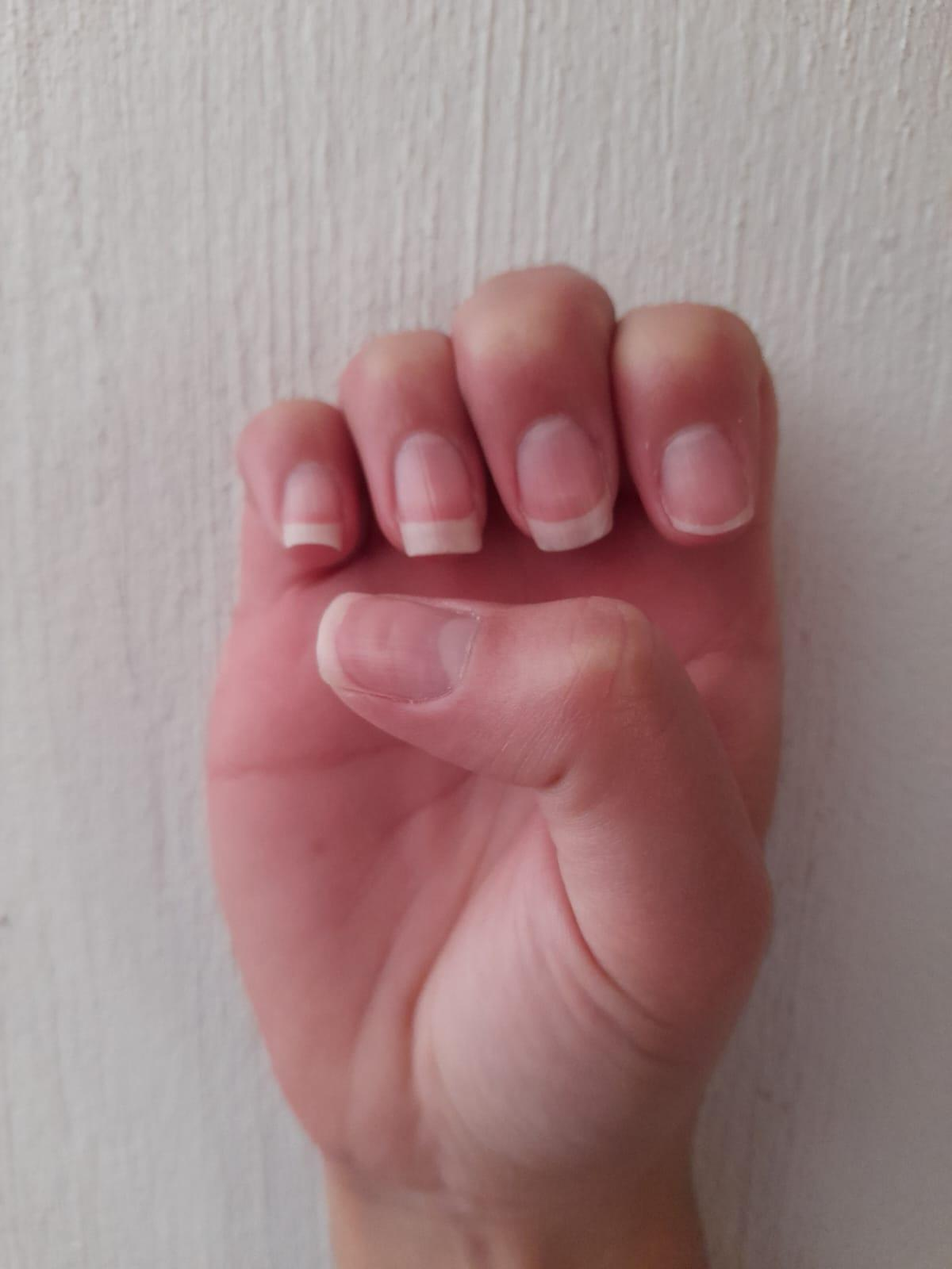E: (167, 222, 889, 1245)
